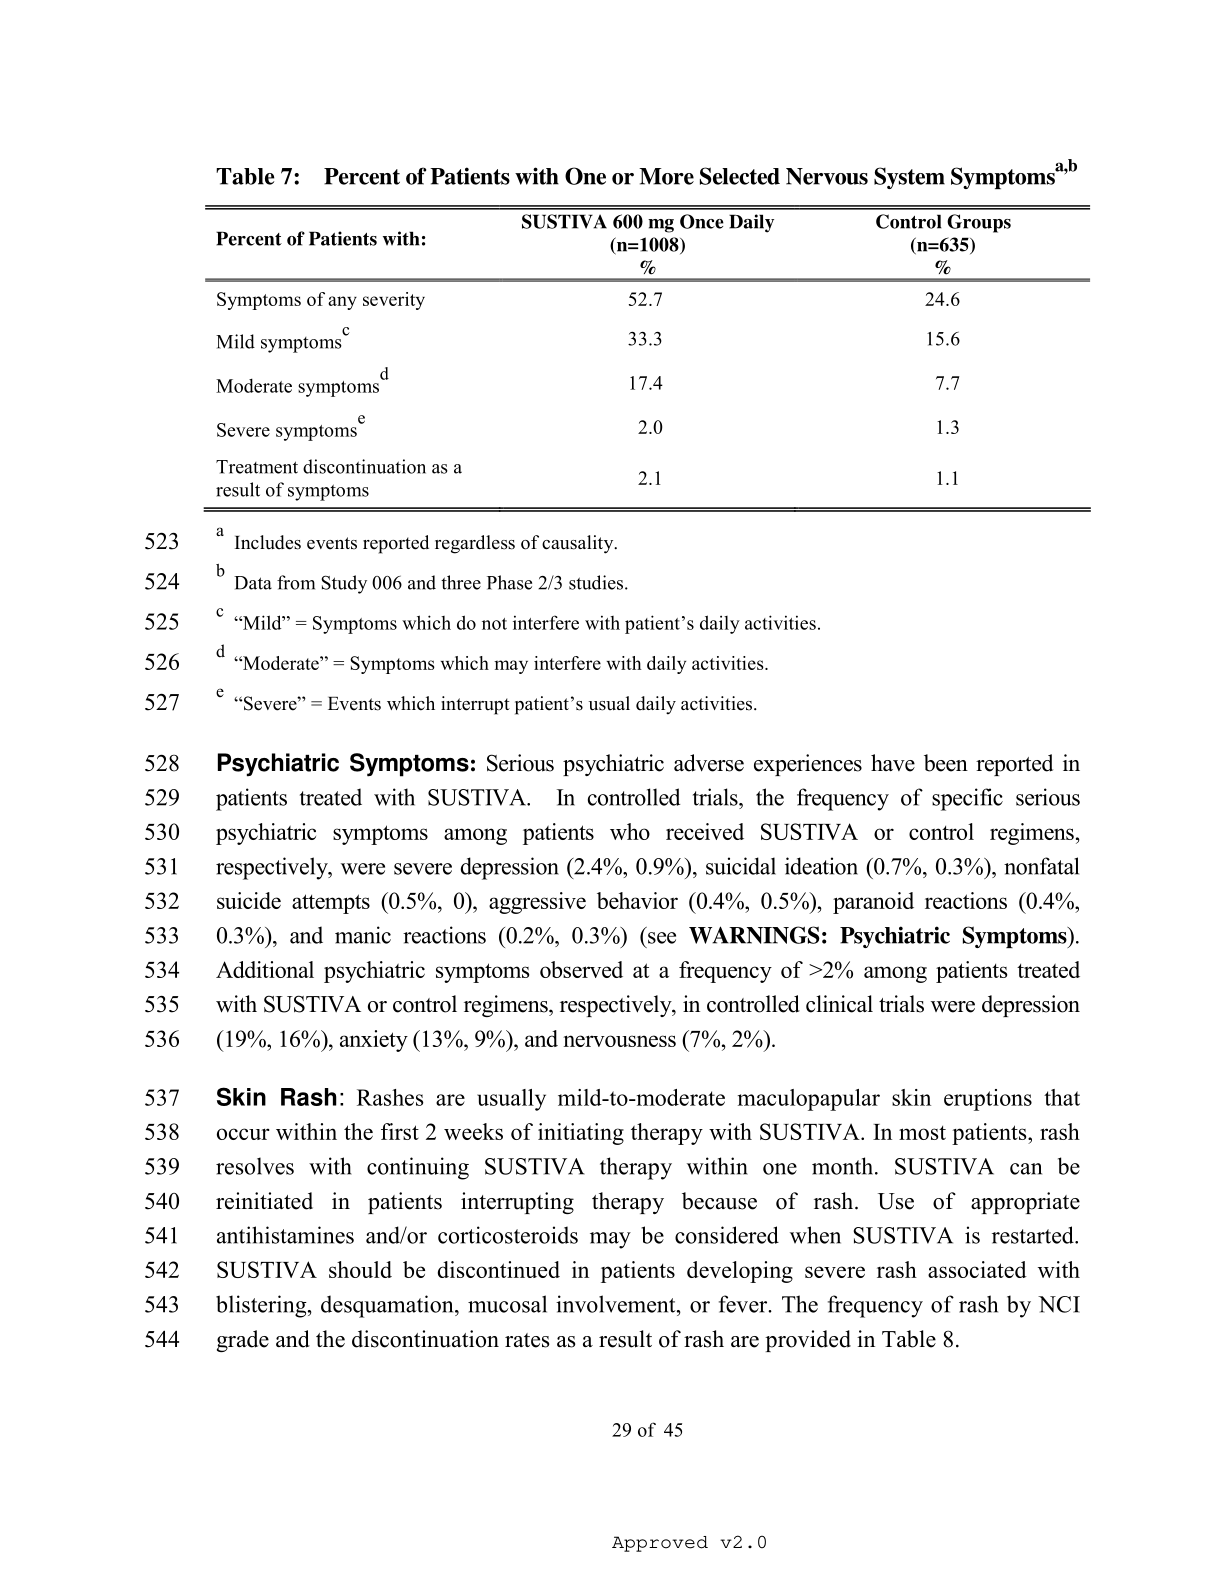partial_lined: (202, 204, 1092, 513)
